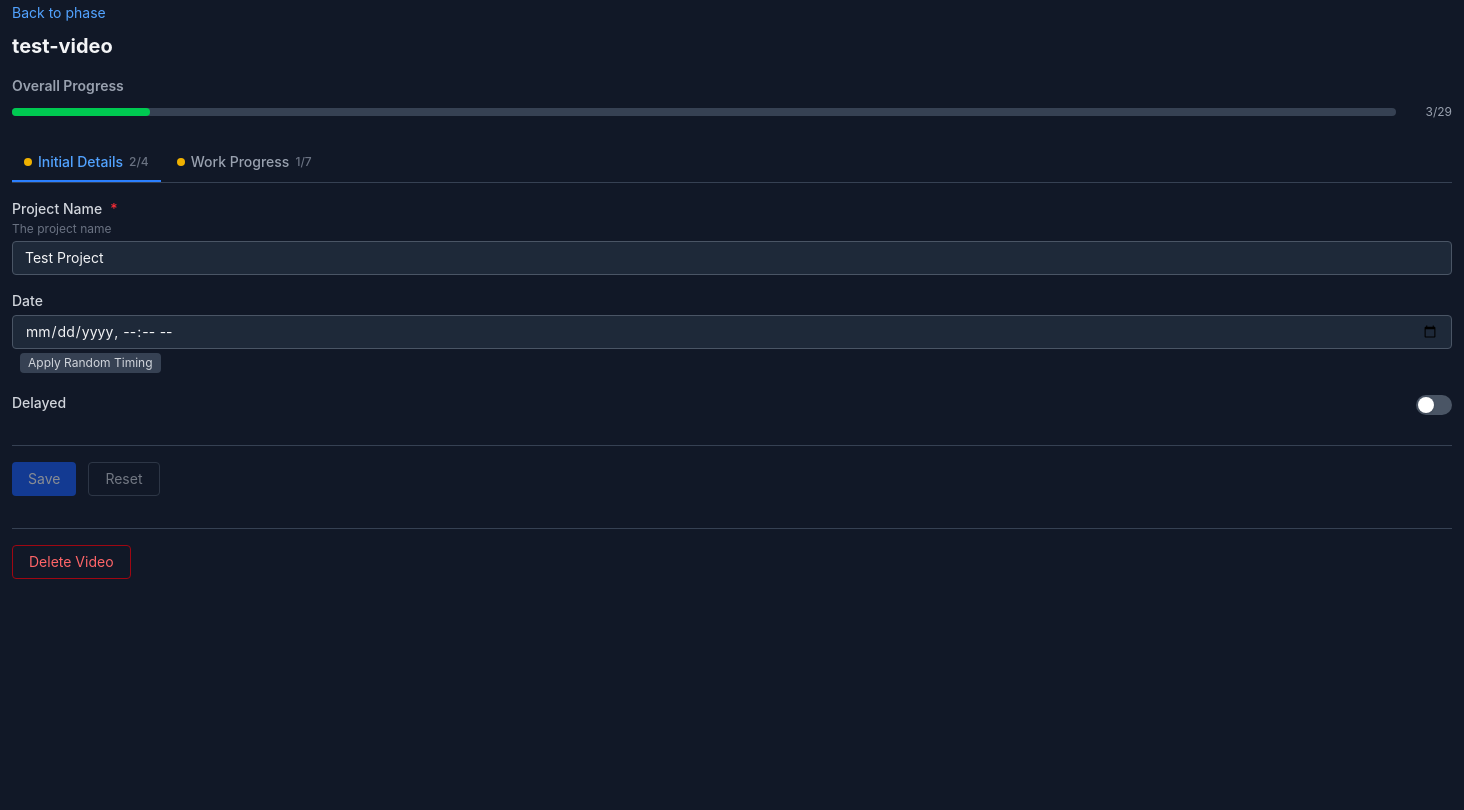
it: VideoDetail › cancels delete confirmation
Expected: the heading "test-video" is shown, left=12, top=34, right=113, bottom=58
Click the button "Delete Video". click: (71, 562)
box: left=12, top=545, right=130, bottom=579
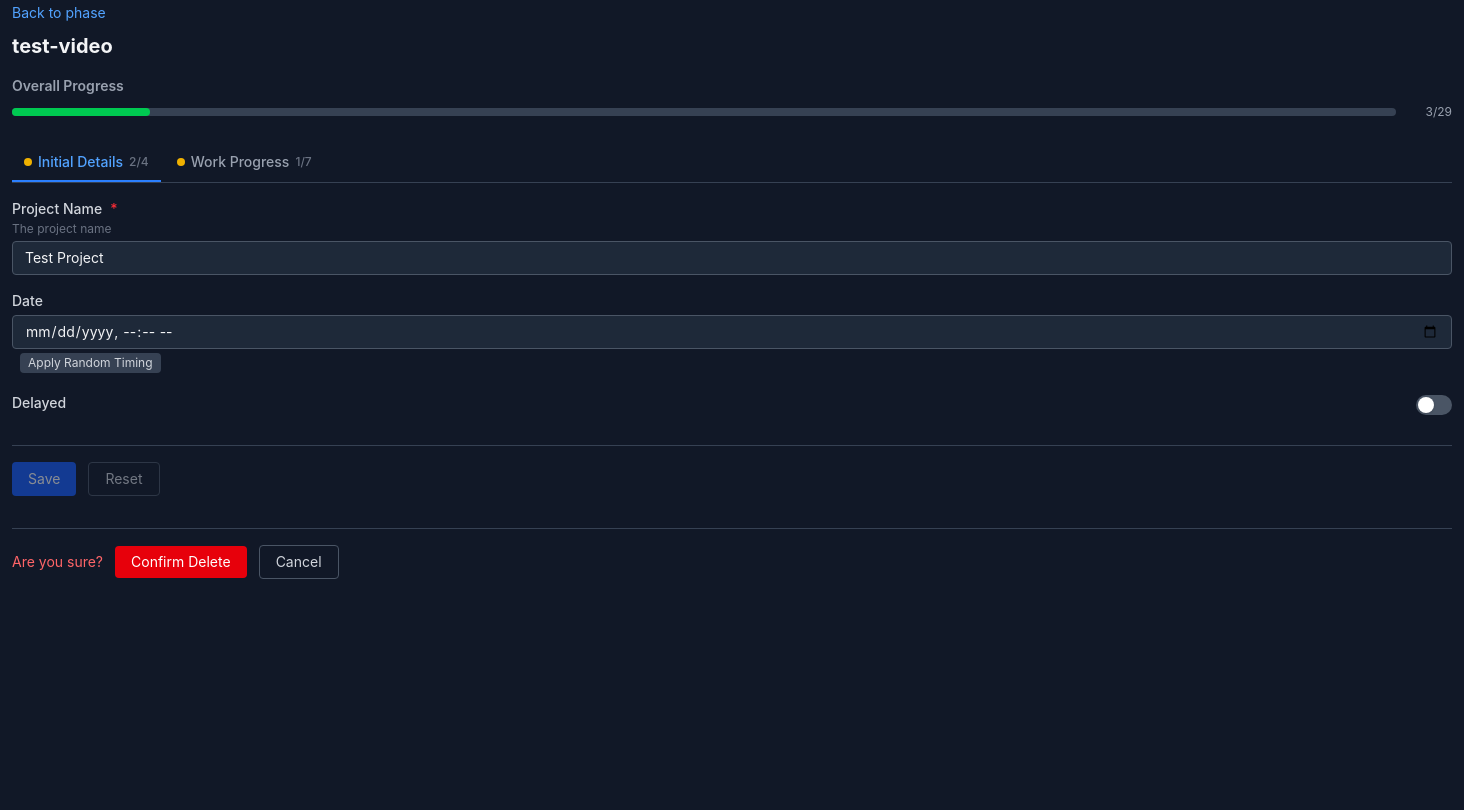
Click the button "Cancel". click: (299, 562)
box: left=259, top=545, right=338, bottom=579
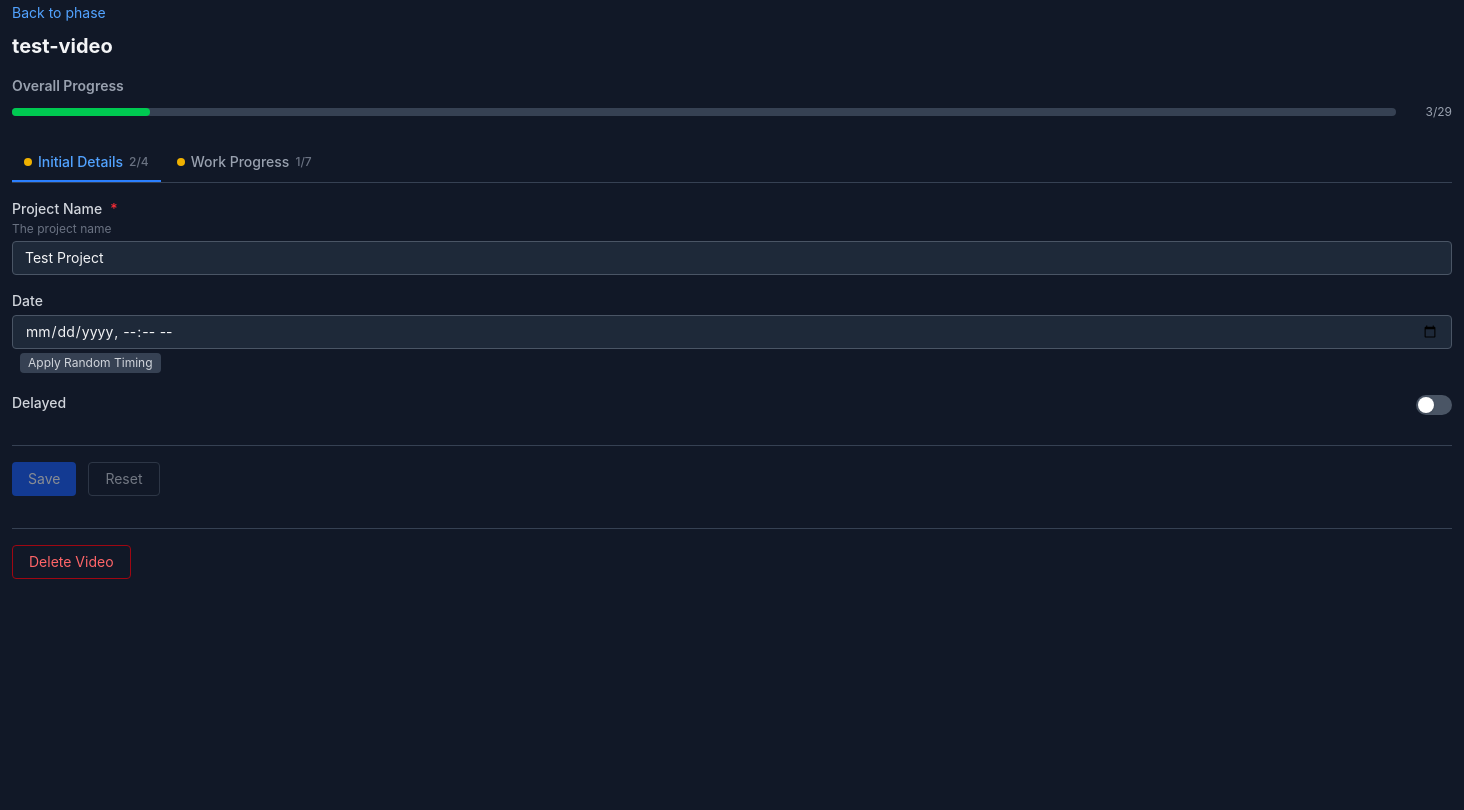
Result: the button "Delete Video" is shown at left=12, top=545, right=130, bottom=579
